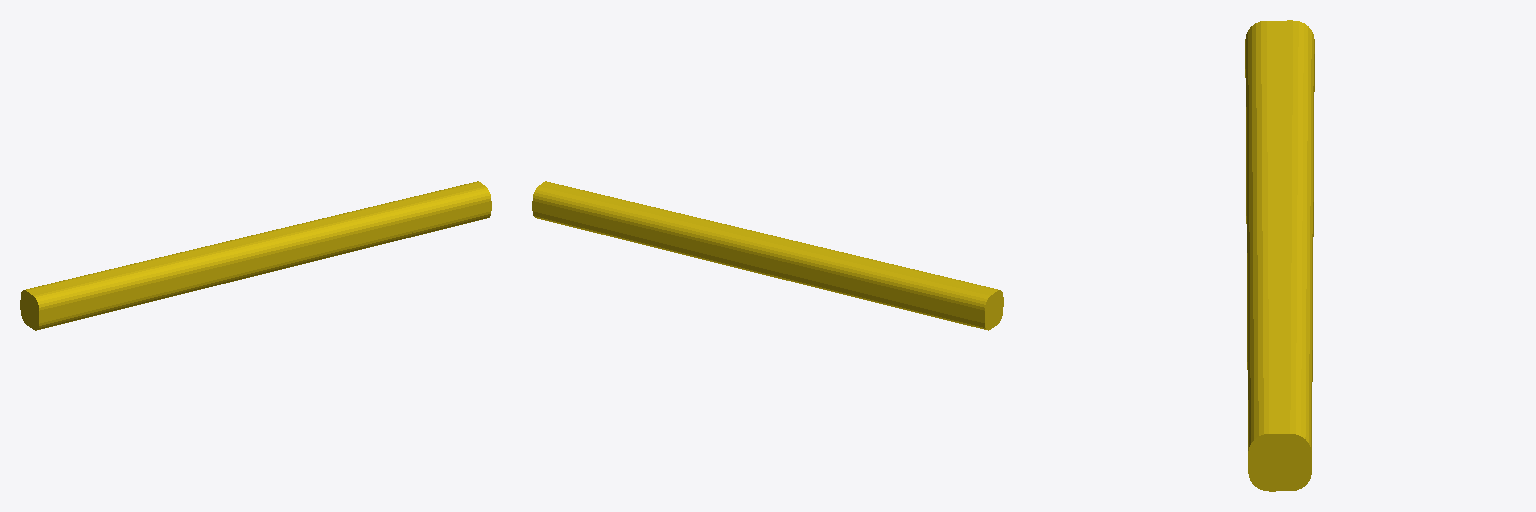
The robot description file, URDF, robot "cb_chopstick_t45d110":
<?xml version="1.0"?>
<!-- ContactBench chopstick. Generated by FoundationTouch tools/contactbench/make_contactbench_assets.py -->
<robot name="cb_chopstick_t45d110">
  <material name="c"><color rgba="0.85 0.75 0.10 1.0"/></material>
  <link name="object">
    <visual><origin xyz="0 0 0" rpy="0 0 0"/><geometry><mesh filename="chopstick.obj" scale="1 1 1"/></geometry><material name="c"/></visual>
    <collision><origin xyz="0 0 0" rpy="0 0 0"/><geometry><mesh filename="coll_00.obj" scale="1 1 1"/></geometry></collision>
    <inertial><mass value="1.131409e-03"/><origin xyz="0 0 0" rpy="0 0 0"/><inertia ixx="3.797499e-09" ixy="3.584008e-16" ixz="-1.174798e-16" iyy="4.628020e-07" iyz="9.542101e-16" izz="4.628019e-07"/></inertial>
  </link>
</robot>

--- What the picture shows (computed from the rendered views, not written in the file) ---
3 views of the same robot in one strip: view 1: azimuth 30°, elevation 25°; view 2: azimuth 150°, elevation 25°; view 3: azimuth 270°, elevation 25° (orthographic).
Model cb_chopstick_t45d110 with 1 links and 0 joints (none), rooted at object, posed every joint at zero.
Links seen in each view (by area): view 1: object; view 2: object; view 3: object.
Link boxes in pixels (box(x1,y1,x2,y2)): object: box(20, 181, 491, 330); object: box(532, 181, 1003, 330); object: box(1245, 20, 1314, 491).
Size in the robot's own frame: 0.07 by 0.005 by 0.005 metres.
Meshes: 1 distinct files referenced, 1 mesh visuals loaded (1 OBJ).
